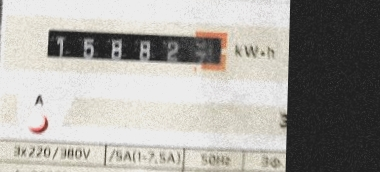1: (53, 33, 67, 55)
2: (164, 38, 180, 62)
5: (81, 34, 95, 59)
7: (194, 46, 206, 63)
8: (137, 37, 151, 62), (109, 36, 122, 60)
screen: (37, 18, 236, 79)
